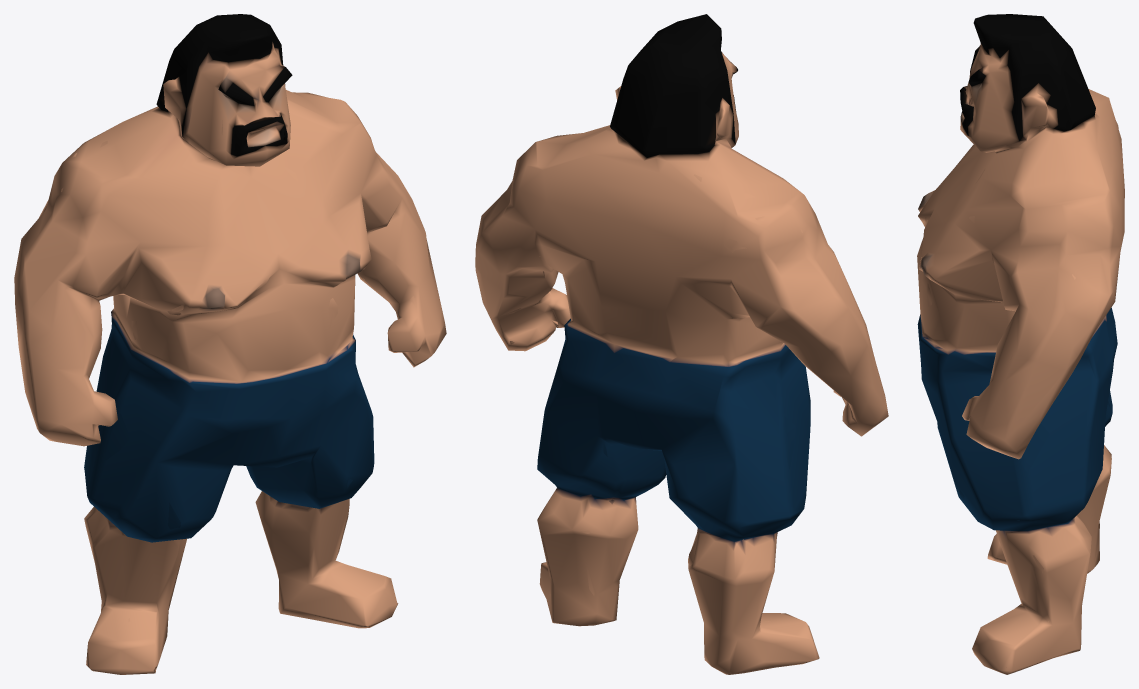
The model's file is gen3d-sumo-wrestler-lod0.glb.
The picture shows the model from 3 angles, left to right: view 1: azimuth 30°, elevation 25°; view 2: azimuth 150°, elevation 25°; view 3: azimuth 270°, elevation 25°; orthographic projection. The views are drawn at different scales.
Parts seen in each view (by area): view 1: part_0; view 2: part_0; view 3: part_0.
Part boxes in pixels (box(x1,y1,x2,y2)): part_0: box(14, 14, 446, 674); part_0: box(475, 14, 888, 674); part_0: box(917, 14, 1124, 674).
Size of the model in its own units: 0.6865 by 1 by 0.3221.
